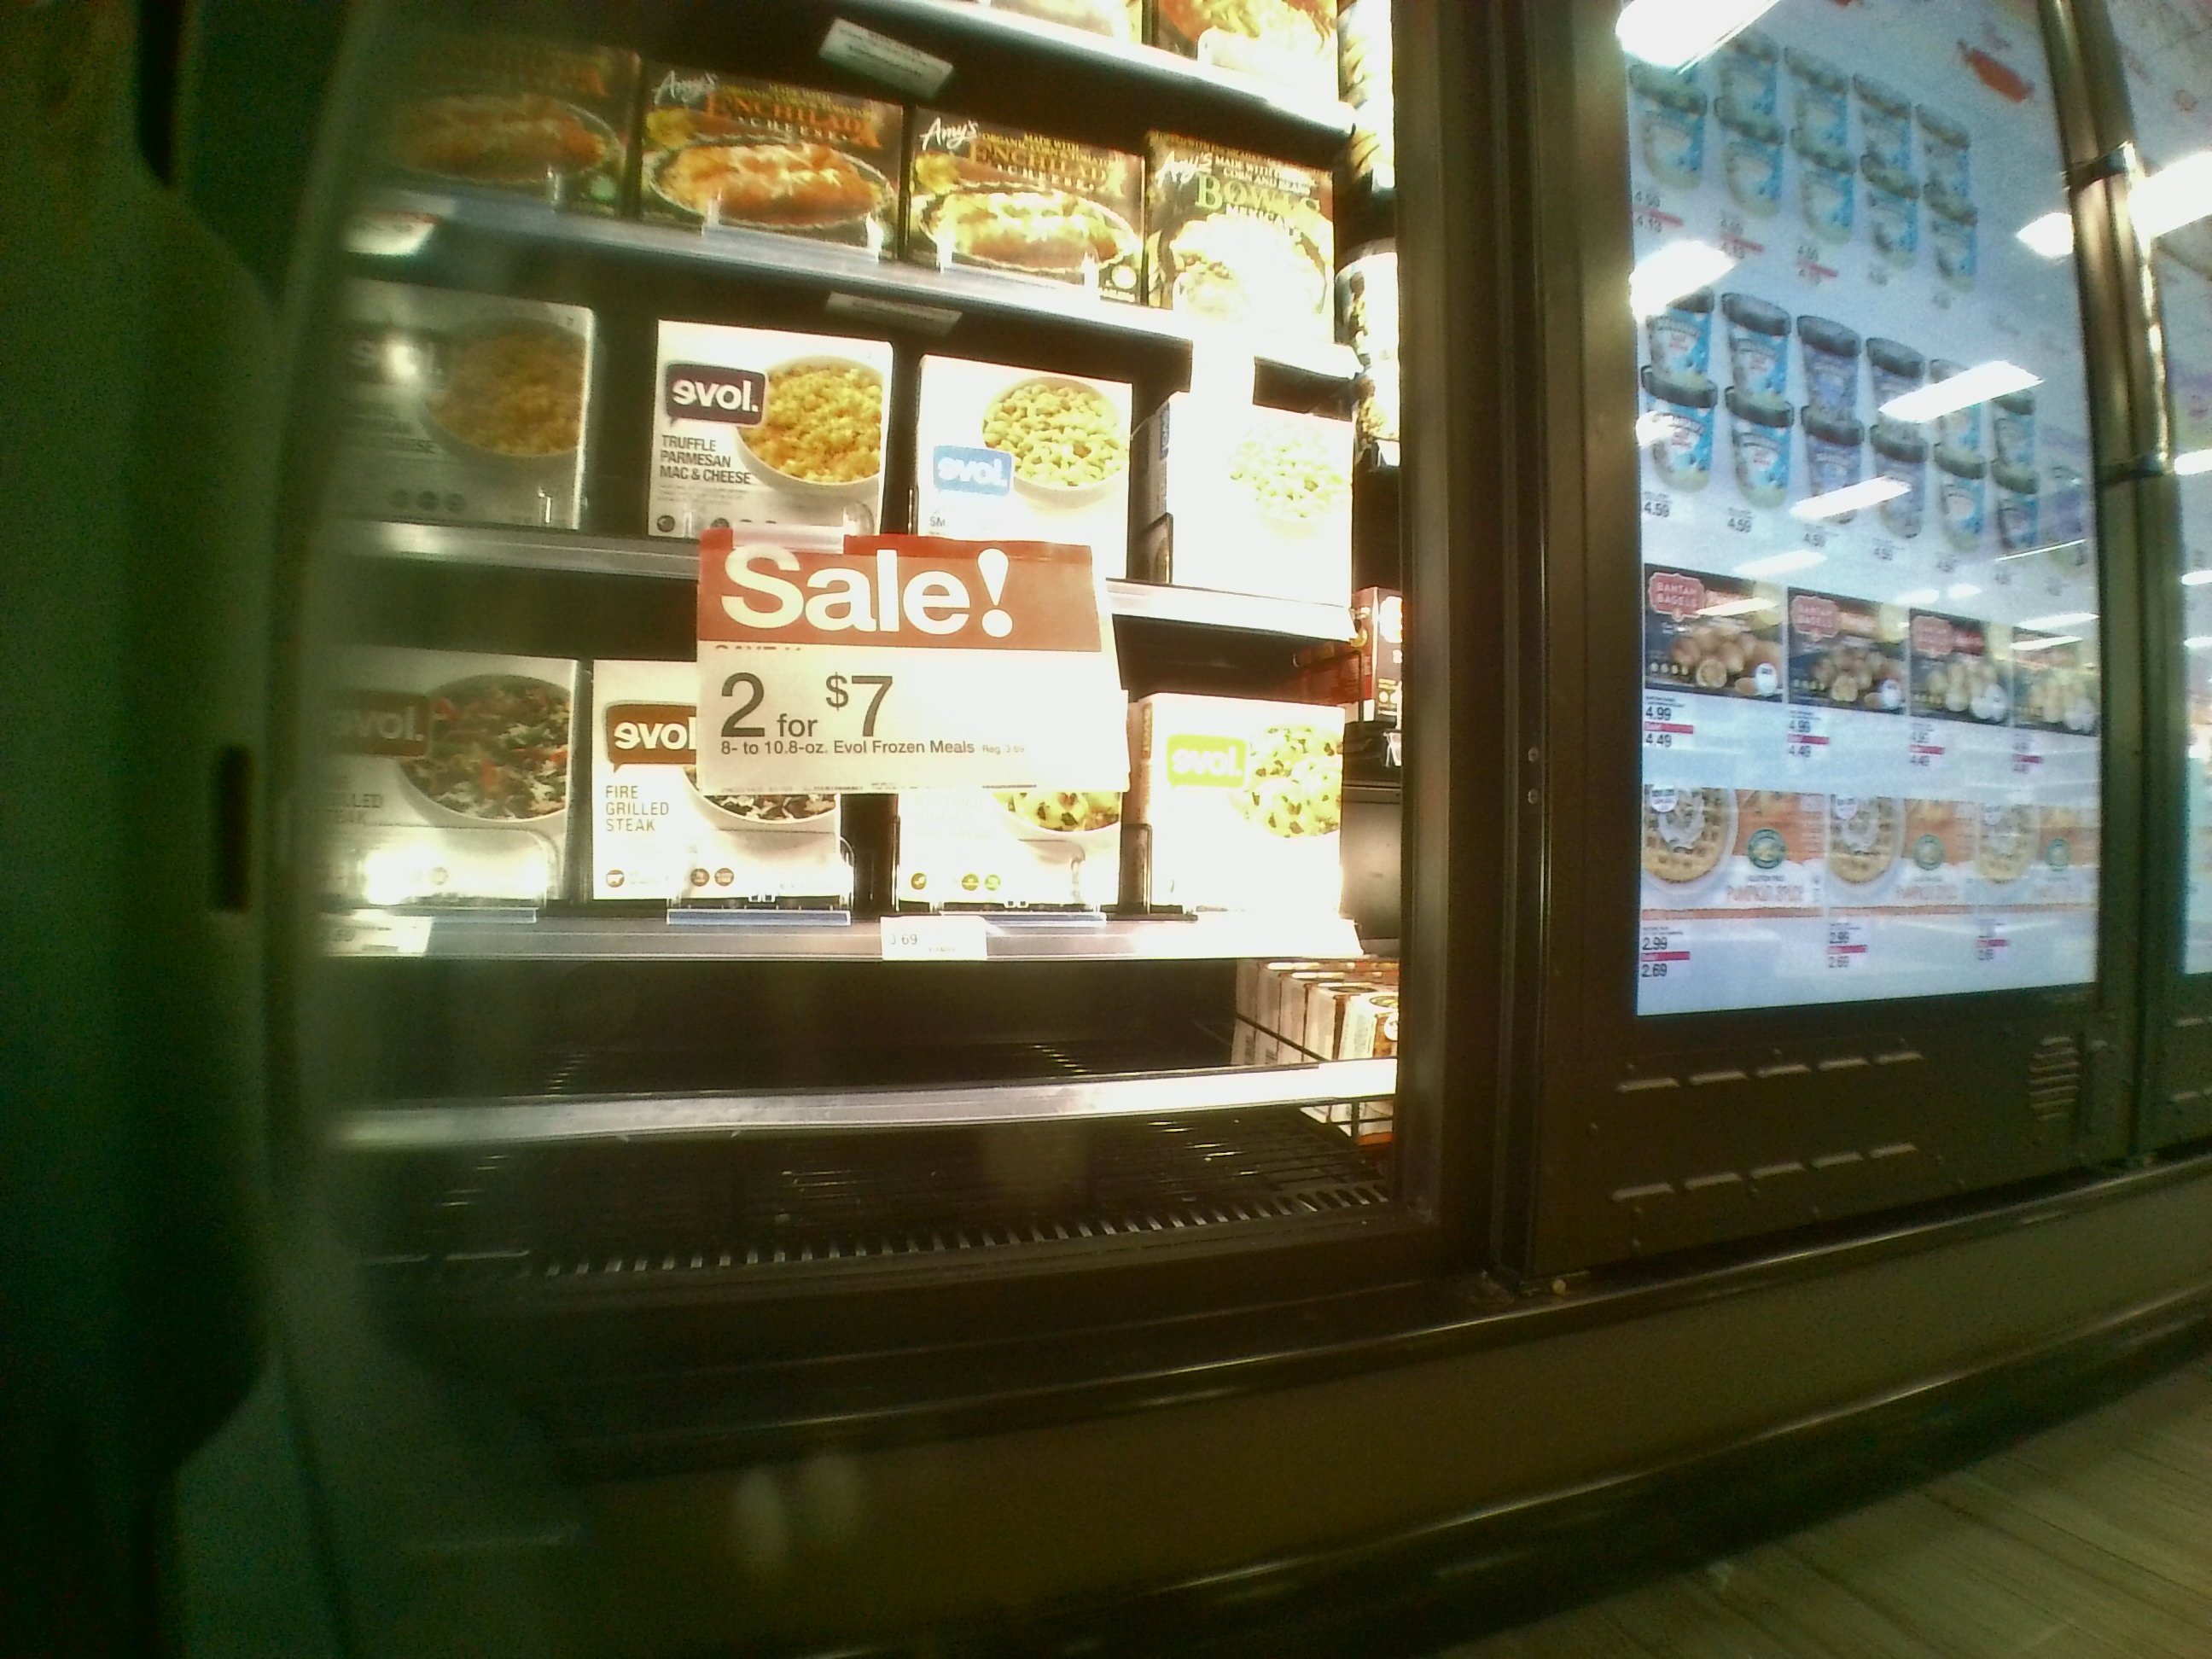shelf: (327, 610, 1411, 969), (345, 958, 1399, 1283), (331, 324, 1406, 627)
